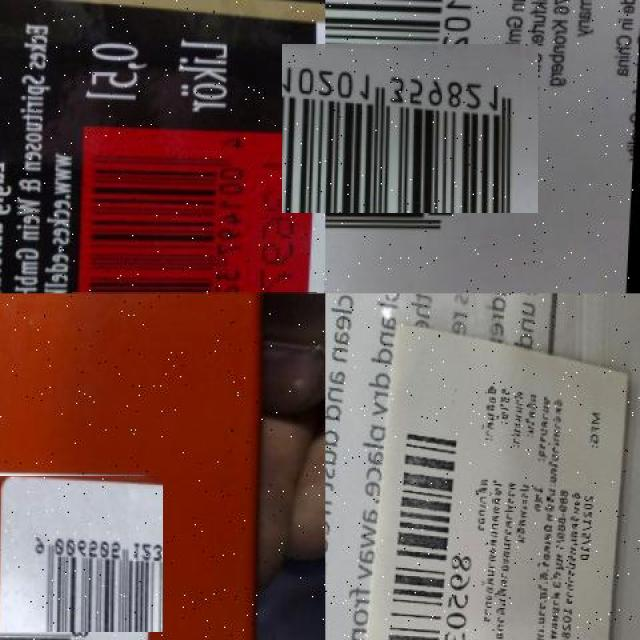Barcode: (304, 22, 516, 235), (72, 125, 317, 294), (0, 472, 160, 635), (369, 418, 479, 640)
